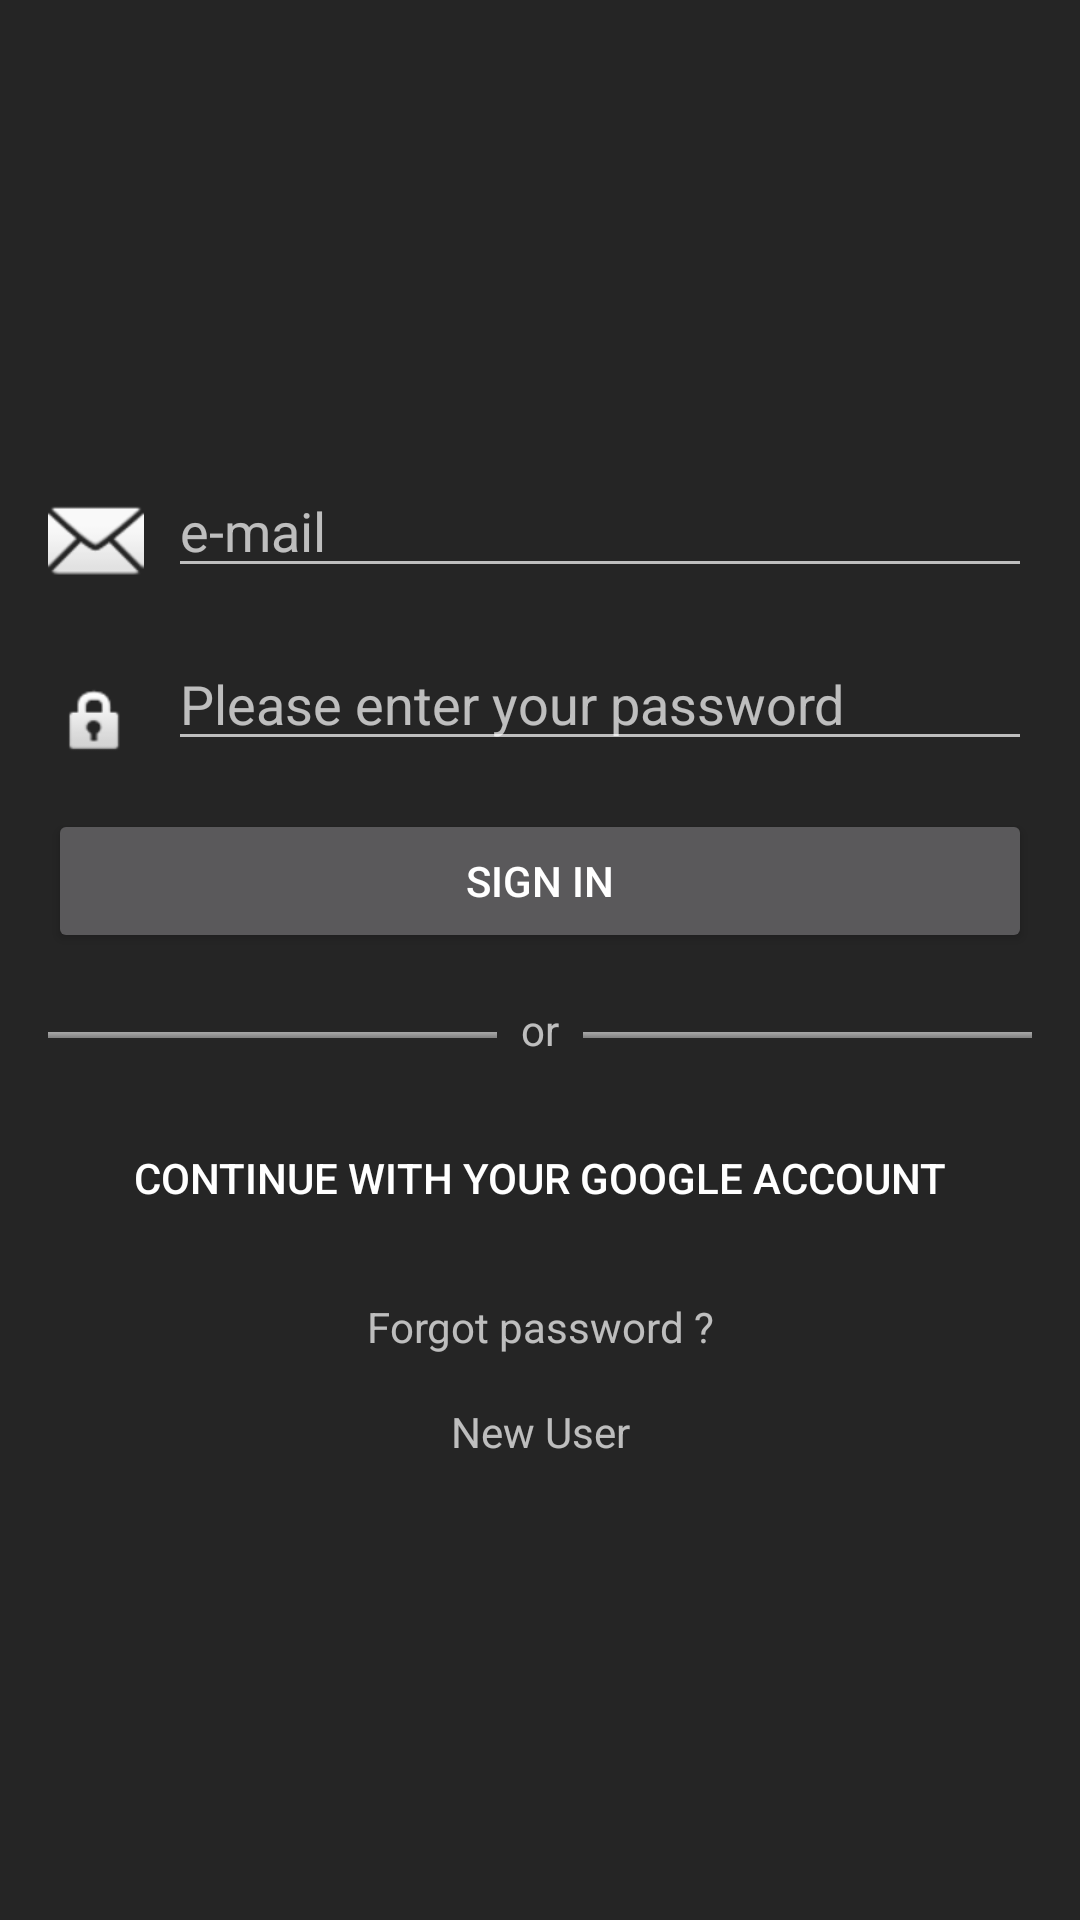

Where to tap for icons on this 1080 x 1920 app screen, as (x=x, y=y):
lock idle: (x=94, y=719)
